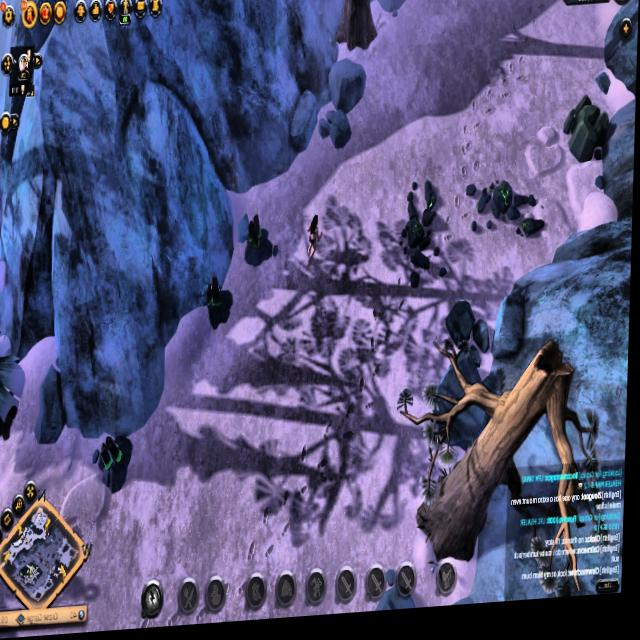sandstone: (562, 96, 613, 173)
tin_ore: (90, 431, 138, 499), (199, 277, 238, 339), (242, 215, 274, 276)
